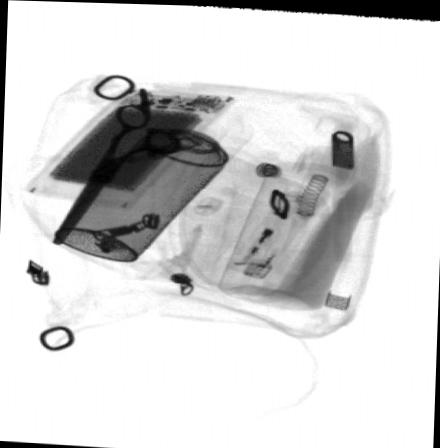Lighter: (229, 221, 296, 279)
Powerbank: (28, 80, 240, 210)
Scissors: (50, 87, 179, 245)
Sprayer: (53, 95, 263, 261)
